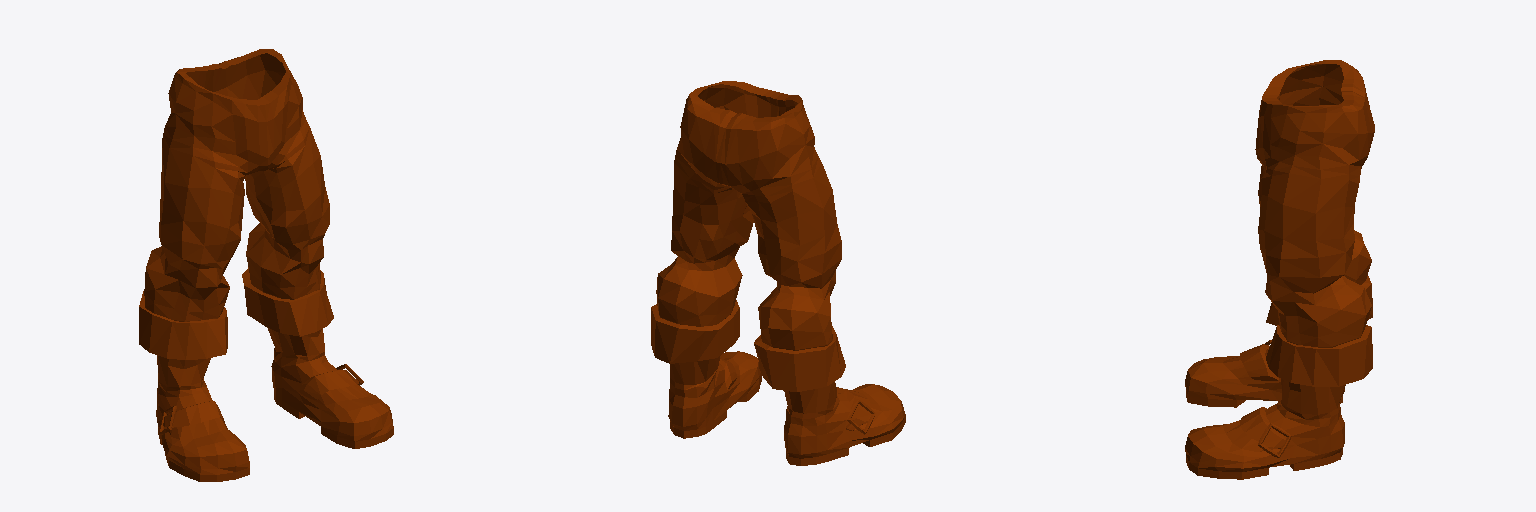
The model's file is Trousers.obj.
3 renders of one model, left to right at view 1: azimuth 30°, elevation 25°; view 2: azimuth 150°, elevation 25°; view 3: azimuth 270°, elevation 25°, orthographic.
Visible parts, largest first — view 1: trousers; view 2: trousers; view 3: trousers.
Part boxes in pixels (x1,y1,x2,y2): trousers: (139,49,393,481); trousers: (651,81,905,465); trousers: (1185,60,1374,479).
Size of the model in its own units: 79.9 by 123 by 61.25.